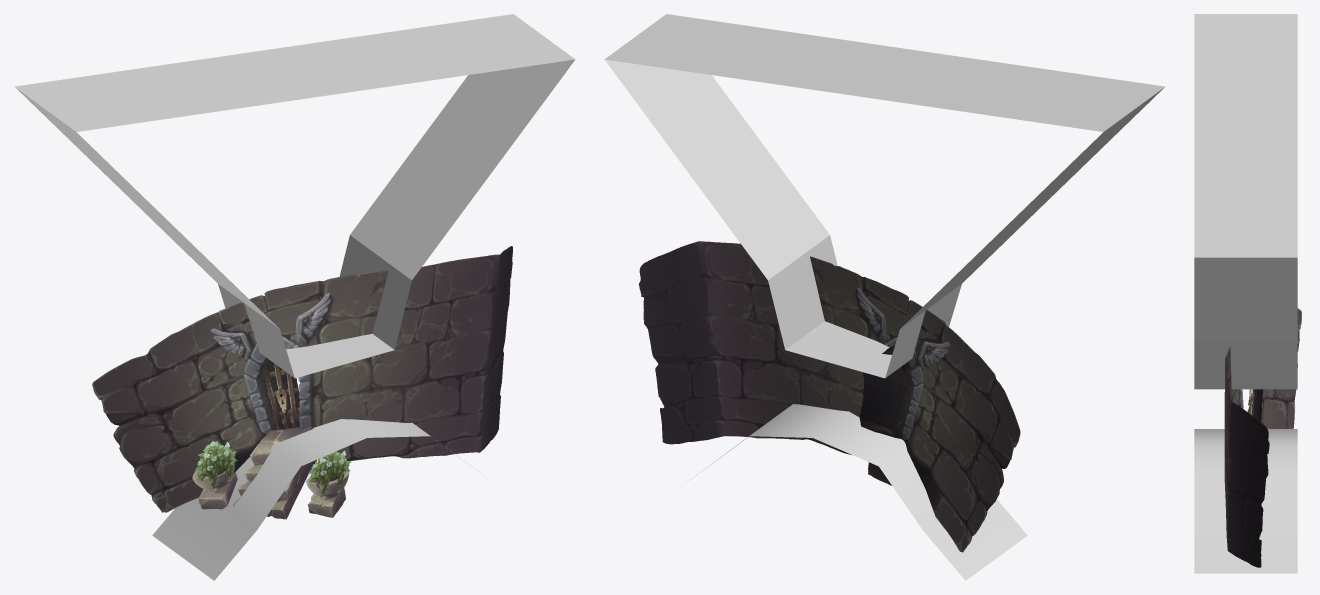
Rendered from LVL 7 Griffin Wall.FBX.
The picture shows the model from 3 angles, left to right: view 1: azimuth 30°, elevation 25°; view 2: azimuth 150°, elevation 25°; view 3: azimuth 270°, elevation 25°; orthographic projection. The views are drawn at different scales.
Parts seen in each view (by area): view 1: Griffin Wall Col, Griffin Wall FG, Griffin Wall BG, Griffin Wall Plant FG, Griffin Wall Plant BG, Griffin Wall Stair, Griffin Wall Door; view 2: Griffin Wall Col, Griffin Wall FG, Griffin Wall BG; view 3: Griffin Wall Col, Griffin Wall FG, Griffin Wall BG.
Part boxes in pixels (x1=…): Griffin Wall Col: x1=15, y1=14, x2=575, y2=580; Griffin Wall FG: x1=218, y1=246, x2=512, y2=460; Griffin Wall BG: x1=92, y1=312, x2=300, y2=512; Griffin Wall Plant FG: x1=192, y1=441, x2=237, y2=509; Griffin Wall Plant BG: x1=306, y1=450, x2=351, y2=517; Griffin Wall Stair: x1=233, y1=426, x2=316, y2=519; Griffin Wall Door: x1=263, y1=363, x2=299, y2=429; Griffin Wall Col: x1=604, y1=14, x2=1164, y2=580; Griffin Wall FG: x1=639, y1=241, x2=945, y2=454; Griffin Wall BG: x1=859, y1=324, x2=1020, y2=552; Griffin Wall Col: x1=1194, y1=14, x2=1297, y2=573; Griffin Wall FG: x1=1224, y1=346, x2=1269, y2=567; Griffin Wall BG: x1=1252, y1=308, x2=1301, y2=428.
Bounding box in the file's own units: 1211 × 281 × 1119.
Materials: 1 (1 with a texture image).
